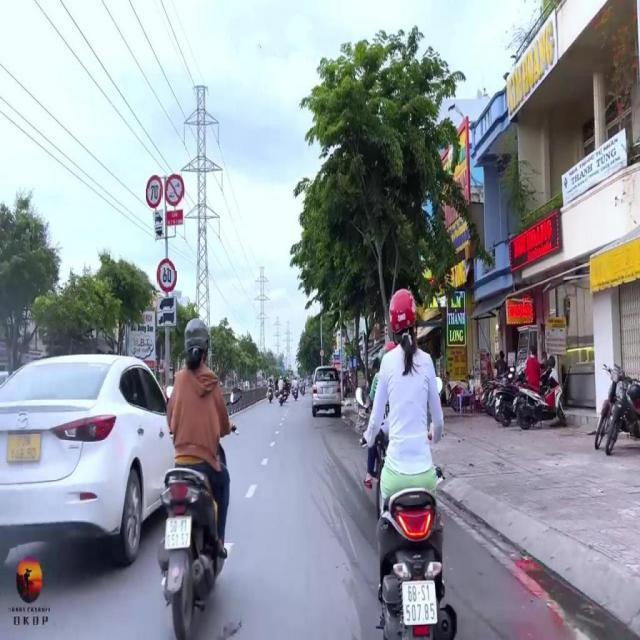127-toc-do-toi-da-60: (157, 258, 177, 294)
127-toc-do-toi-da-70: (145, 174, 163, 210)
